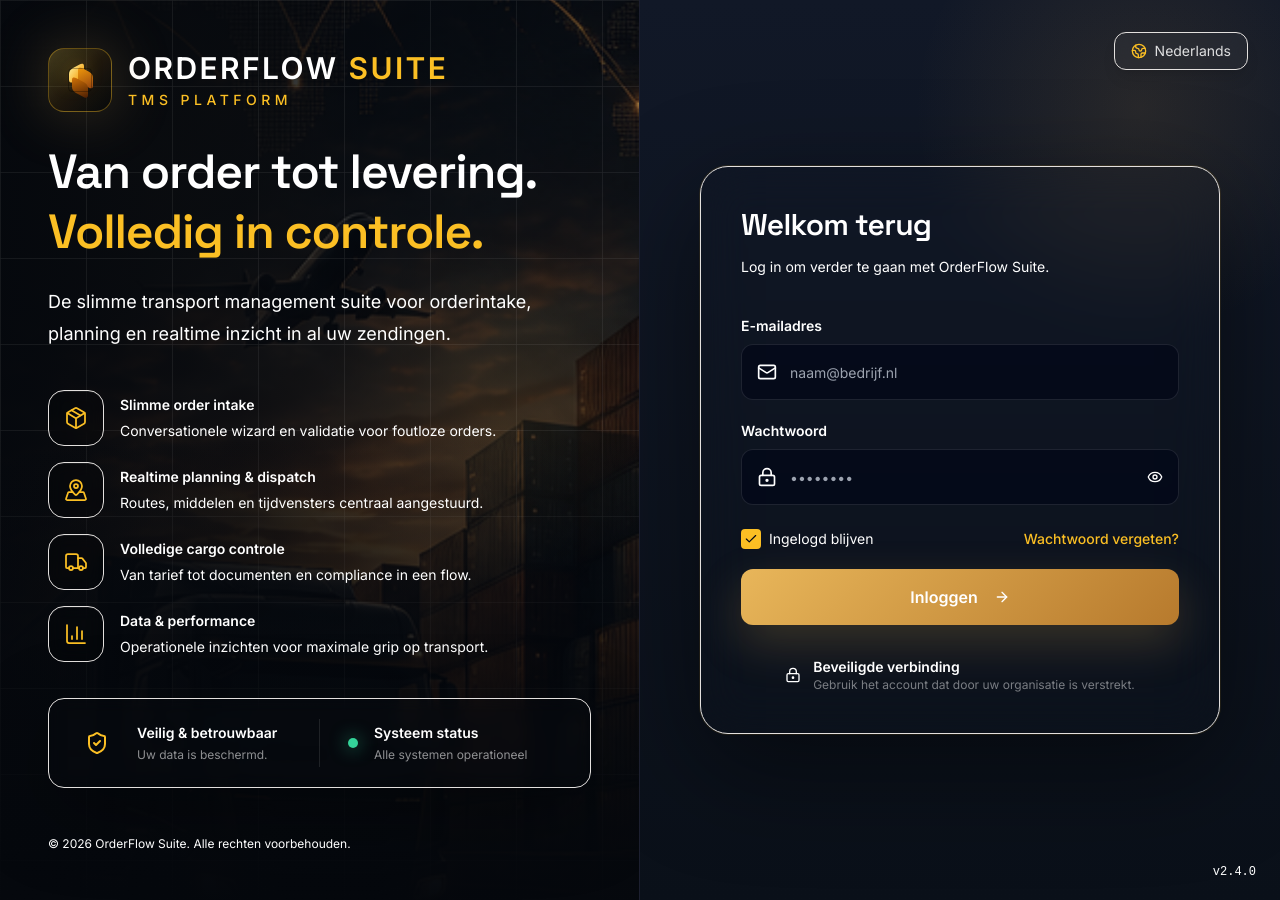
Test: Login › shows lockout banner on 423 from office-login
In the field labelled "E-mailadres": (960, 372) x1=741 y1=344 x2=1179 y2=400, type "victim@test.nl"
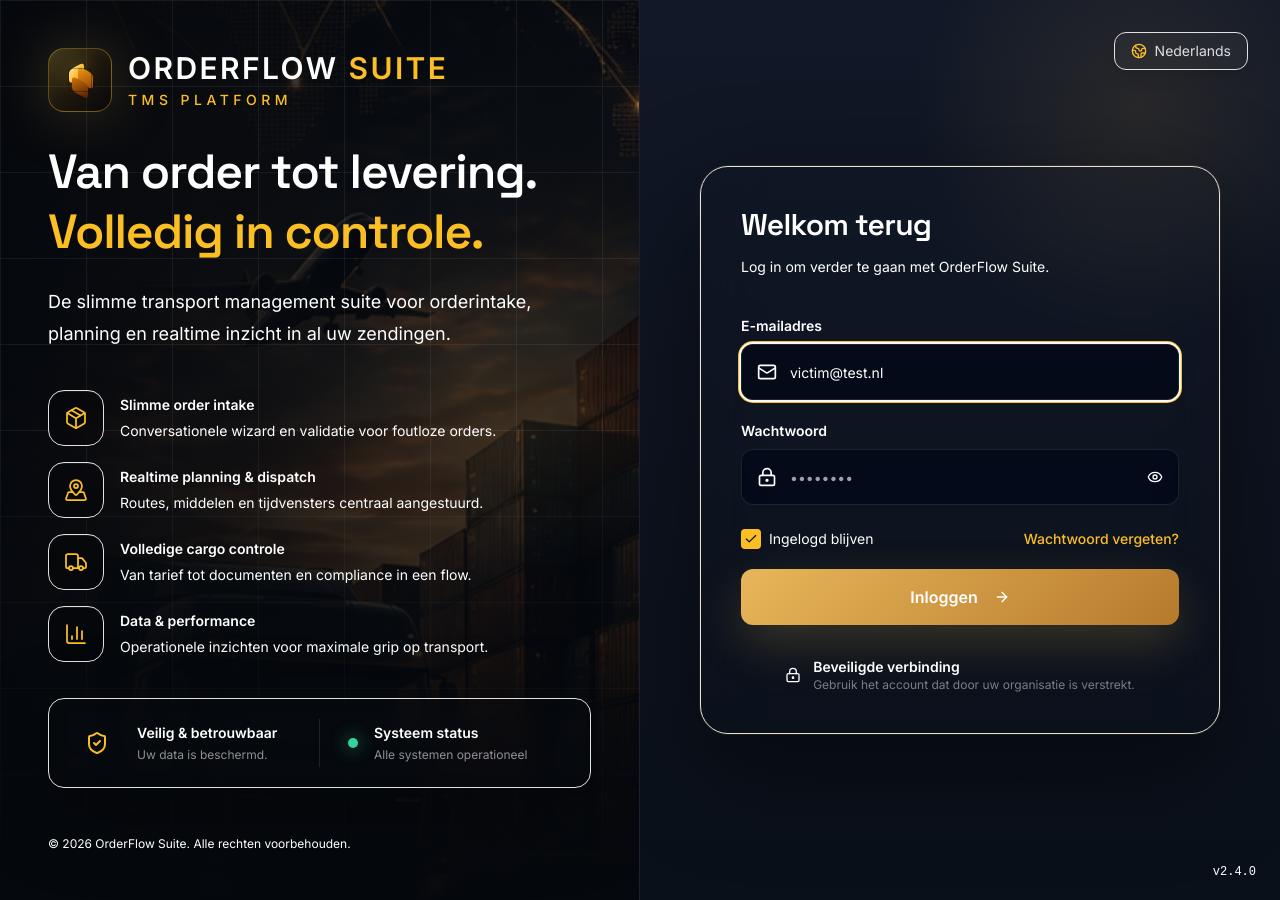
In the password field labelled "Wachtwoord": (960, 477) x1=741 y1=449 x2=1179 y2=505, type "guess"
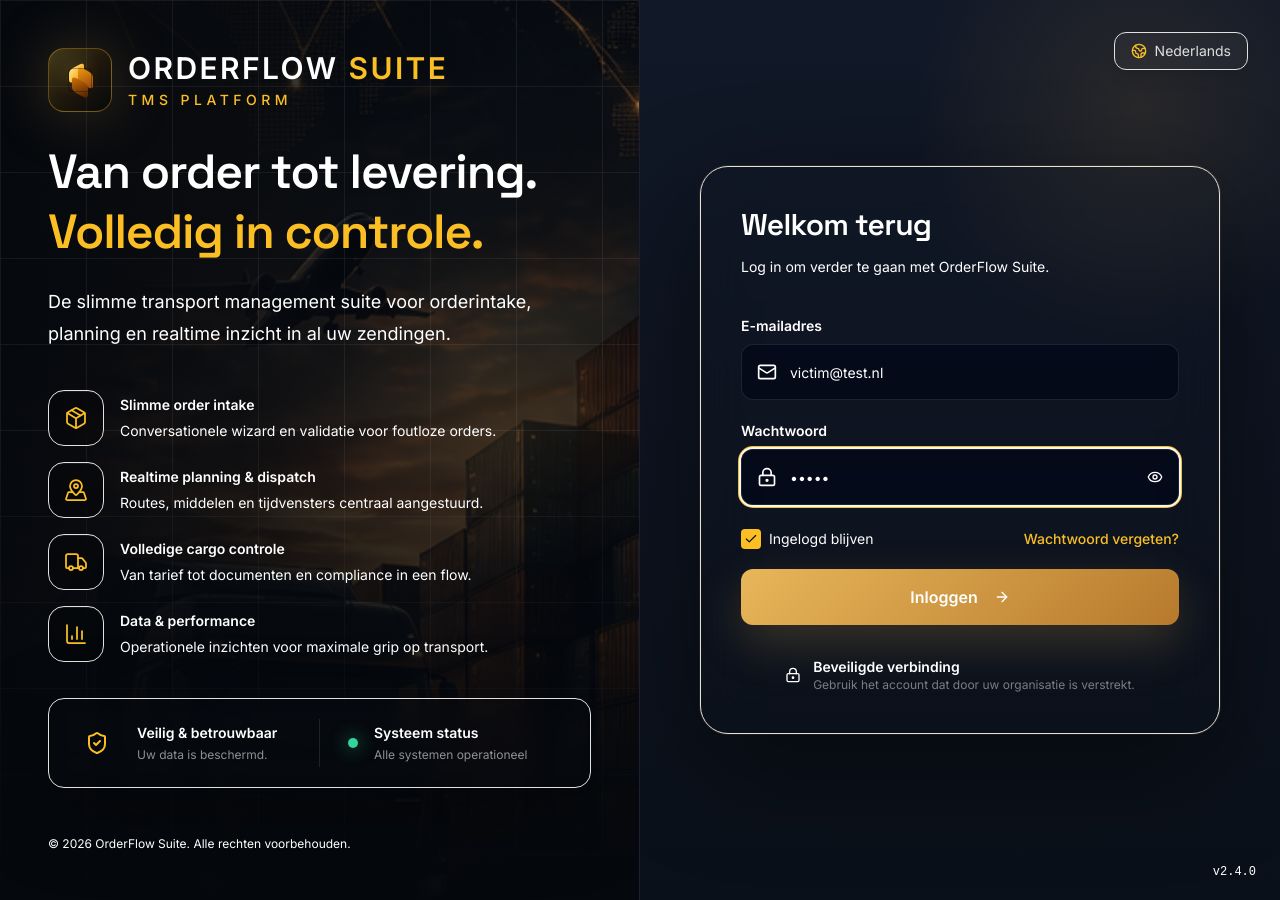
Click the submit button: click(960, 597) x1=741 y1=569 x2=1179 y2=625
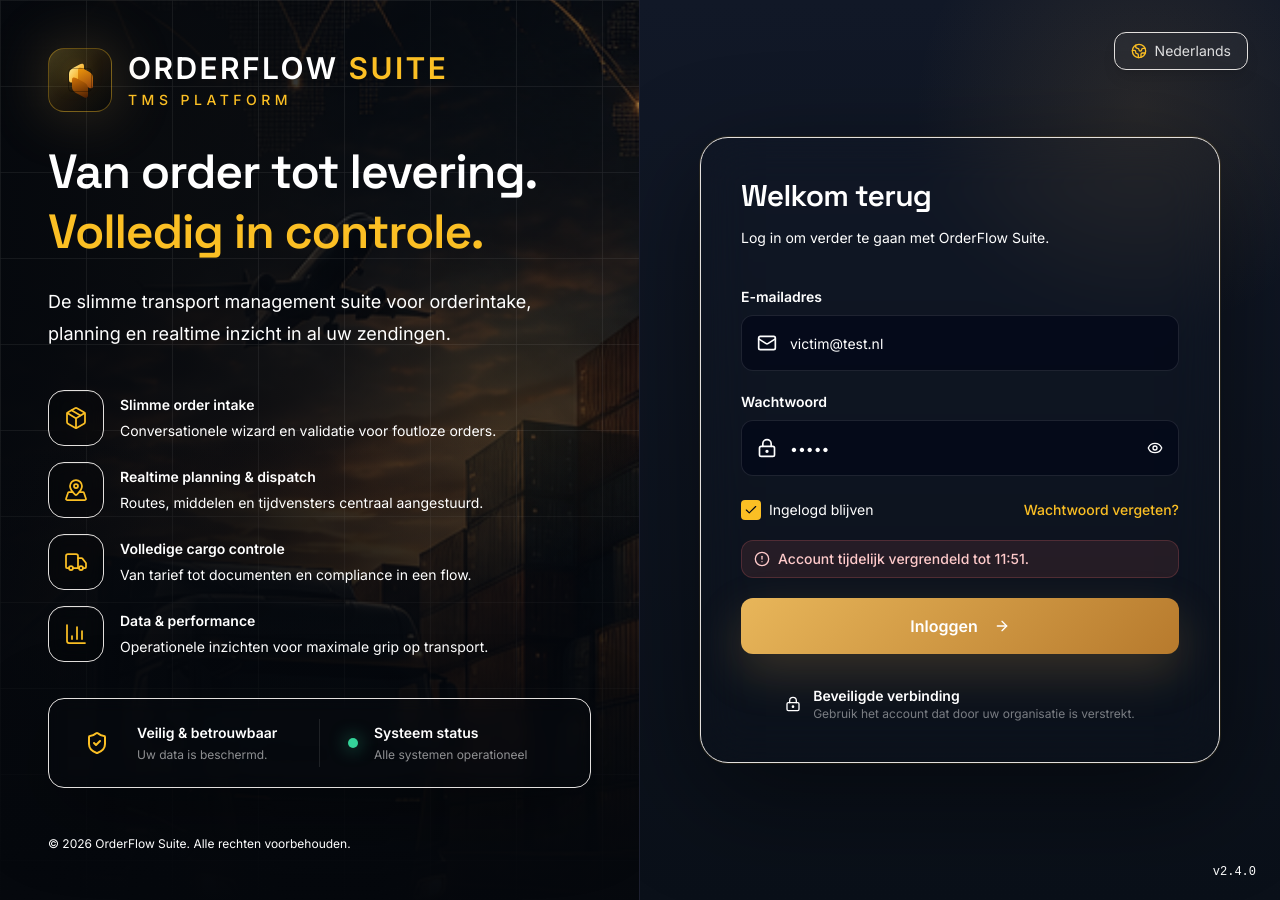
Expected: the text "Account tijdelijk vergrendeld tot 11:51." is shown, x1=778 y1=549 x2=1029 y2=569
